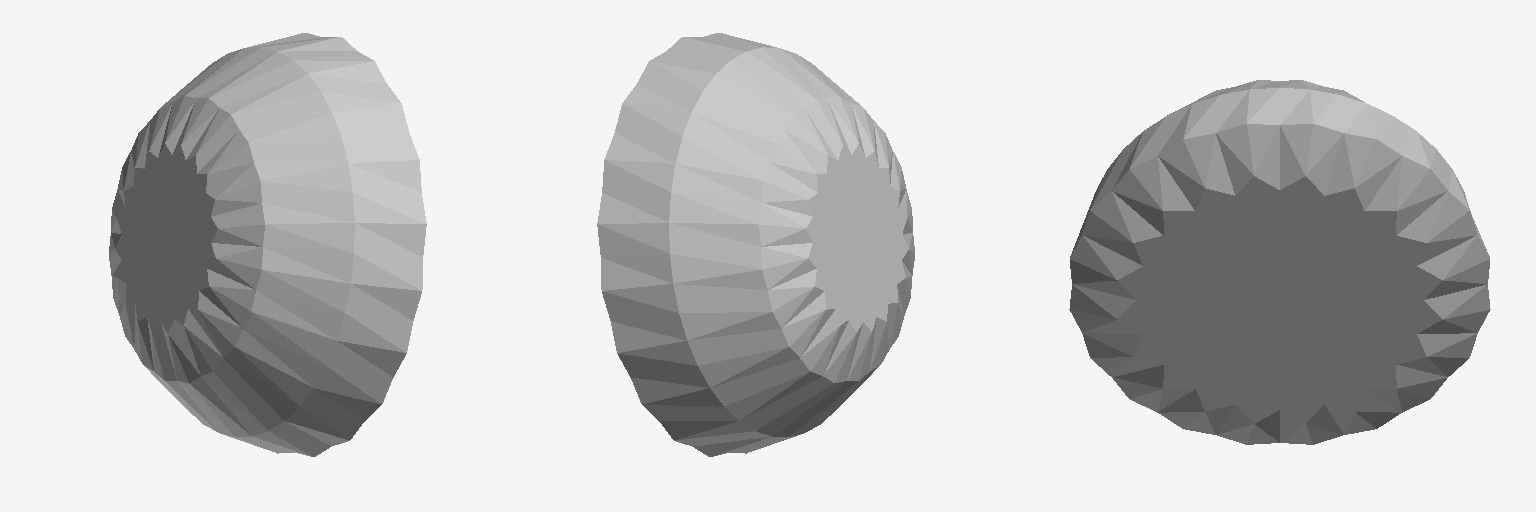
File: leftsleeve.obj
The picture shows the model from 3 angles: view 1: azimuth 30°, elevation 25°; view 2: azimuth 150°, elevation 25°; view 3: azimuth 270°, elevation 25°; orthographic projection.
Visible parts, largest first — view 1: polySurface2 lefthand; view 2: polySurface2 lefthand; view 3: polySurface2 lefthand.
Part boxes in pixels (bbox=[...]): polySurface2 lefthand: bbox=[109, 33, 426, 456]; polySurface2 lefthand: bbox=[597, 33, 914, 456]; polySurface2 lefthand: bbox=[1069, 80, 1490, 444].
Size of the model in its own units: 0.8077 by 1.29 by 1.32.